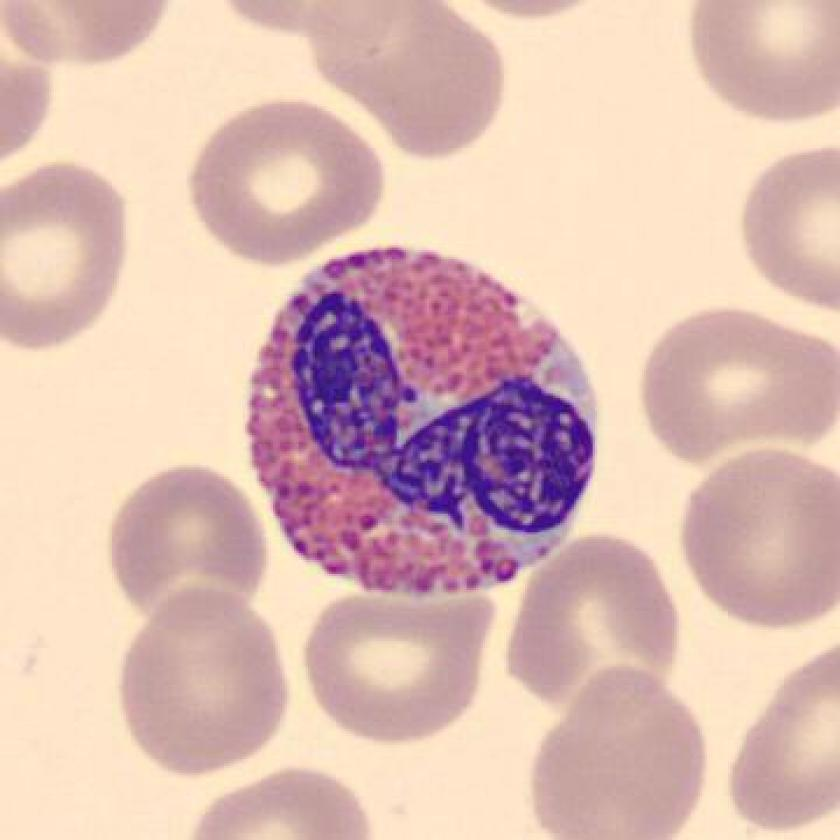eosinophil: (235, 230, 613, 612)
